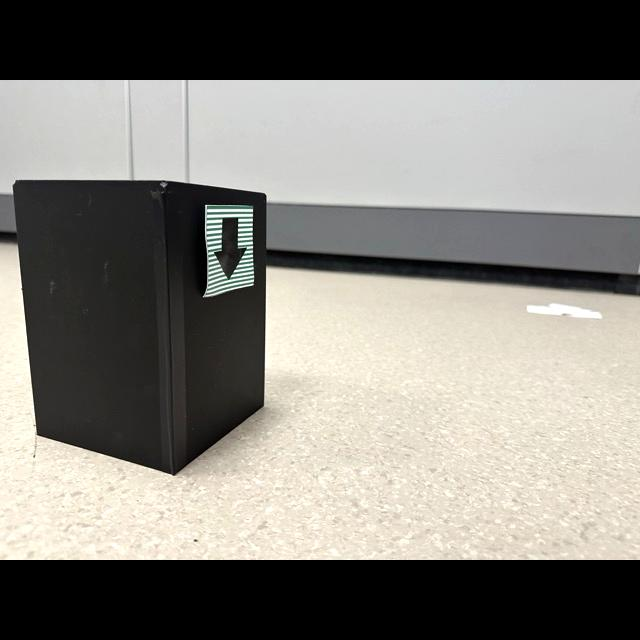DOWN: (213, 218, 248, 281)
